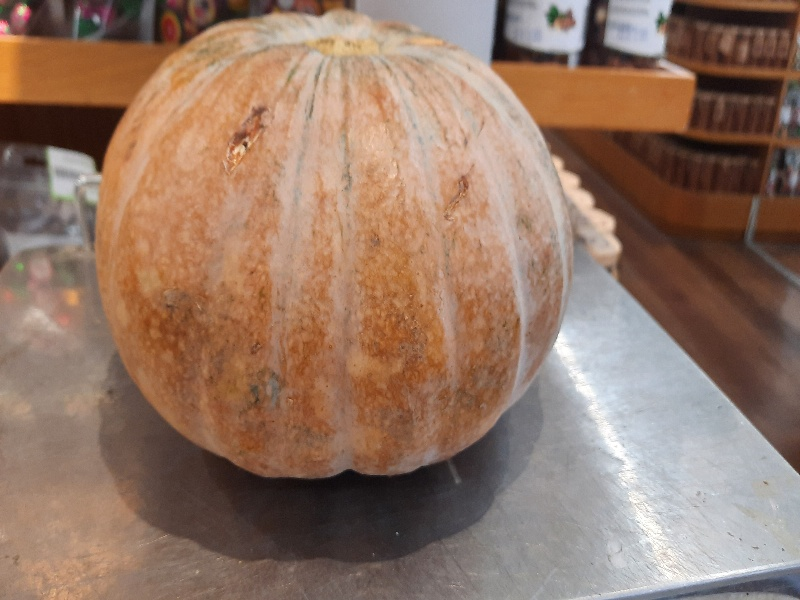vege: (93, 10, 575, 482)
